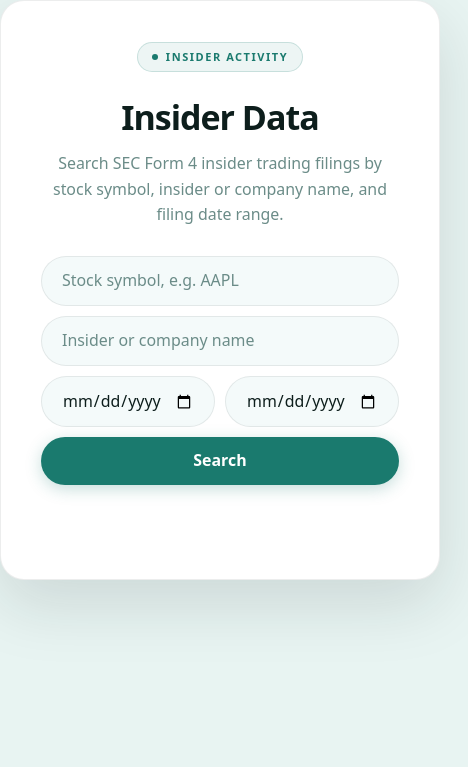
Scenario: InsiderData › disables Next when has_next is false
The image size is (468, 767).
Type "AAPL" into the field with id "txtInsiderSymbol" at (220, 281), box [41, 256, 399, 306]
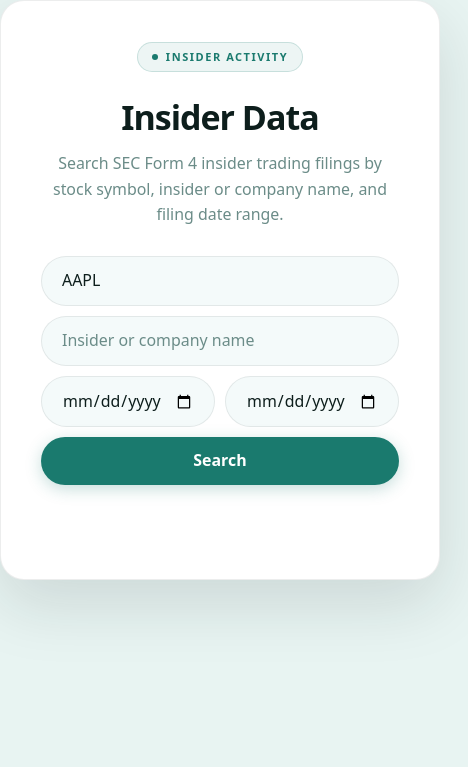
Click the button "Search" at (220, 461), box [41, 438, 399, 485]
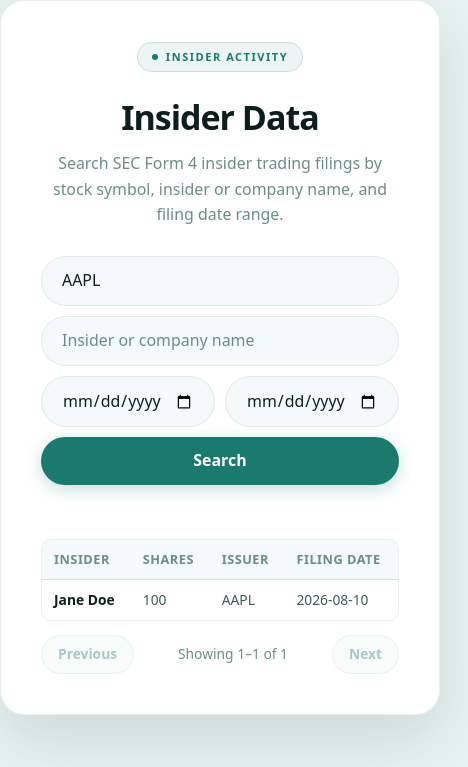
Now the row with test id "insider-result-row" is shown, box [42, 579, 398, 620]
Now the button "Next" is disabled, box [332, 635, 399, 674]
